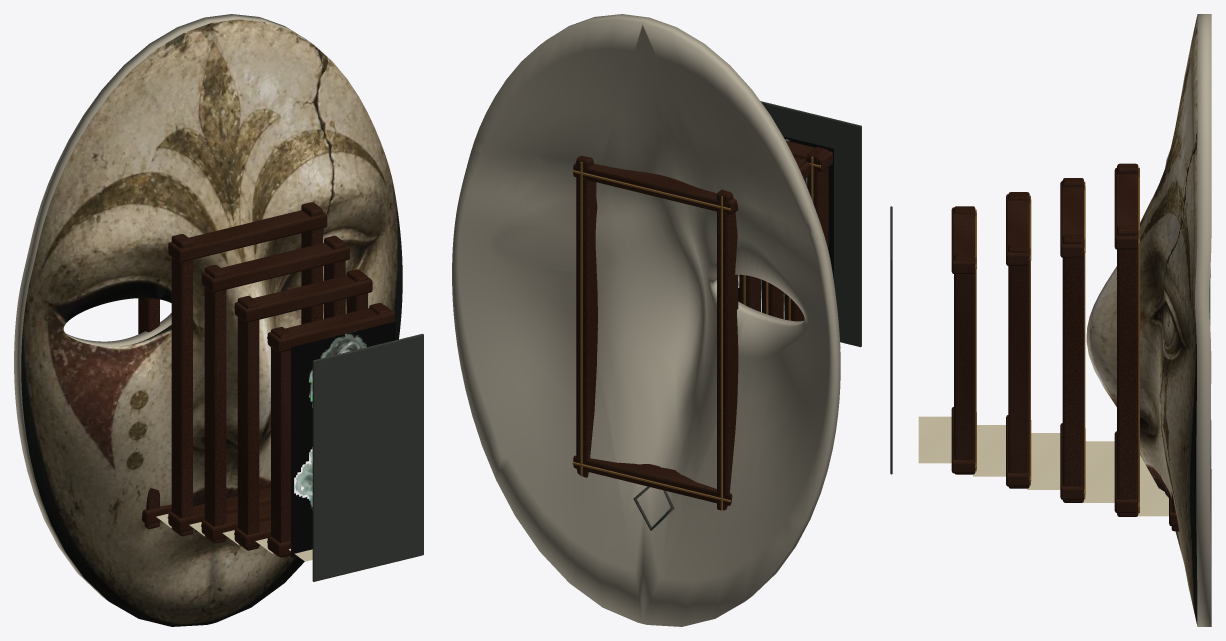
File: library-mask.glb
3 renders of one model, left to right at view 1: azimuth 30°, elevation 25°; view 2: azimuth 150°, elevation 25°; view 3: azimuth 270°, elevation 25°, orthographic. The views are drawn at different scales.
Visible parts, largest first — view 1: Library sculpted painted mask, Mask interior carved jamb, Mask interior distant shadow, Mask borrowed painted witness; view 2: Library sculpted painted mask, Mask interior carved jamb, Mask interior distant shadow, Mask interior brass jamb bead, Mask borrowed painted witness; view 3: Library sculpted painted mask, Mask interior carved jamb, Mask impossible passage floor, Mask interior brass jamb bead, Mask interior distant shadow.
Part boxes in pixels (bbox=[...]): Library sculpted painted mask: bbox=[14, 14, 402, 626]; Mask interior carved jamb: bbox=[138, 202, 394, 557]; Mask interior distant shadow: bbox=[312, 333, 423, 581]; Mask borrowed painted witness: bbox=[291, 321, 395, 557]; Library sculpted painted mask: bbox=[452, 14, 840, 626]; Mask interior carved jamb: bbox=[573, 140, 832, 510]; Mask interior distant shadow: bbox=[760, 101, 861, 347]; Mask interior brass jamb bead: bbox=[572, 156, 820, 510]; Mask borrowed painted witness: bbox=[738, 136, 833, 319]; Library sculpted painted mask: bbox=[1086, 14, 1211, 626]; Mask interior carved jamb: bbox=[951, 163, 1179, 531]; Mask impossible passage floor: bbox=[918, 416, 1168, 516]; Mask interior brass jamb bead: bbox=[975, 167, 1139, 513]; Mask interior distant shadow: bbox=[890, 206, 892, 474].
Size of the model in its own units: 0.6188 by 0.9316 by 0.4624.
Materials: 9 (6 with a texture image).
